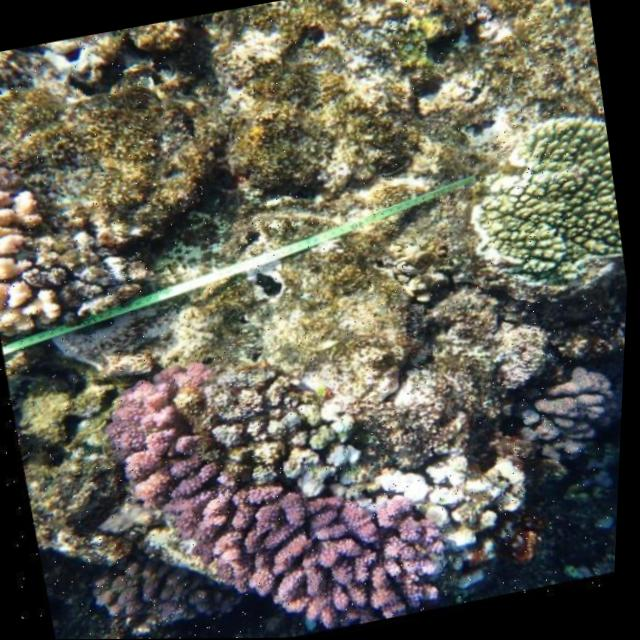Bleached Coral: (192, 349, 373, 521), (363, 442, 541, 577)
Healthy Coral: (95, 323, 467, 639), (467, 95, 637, 316)
